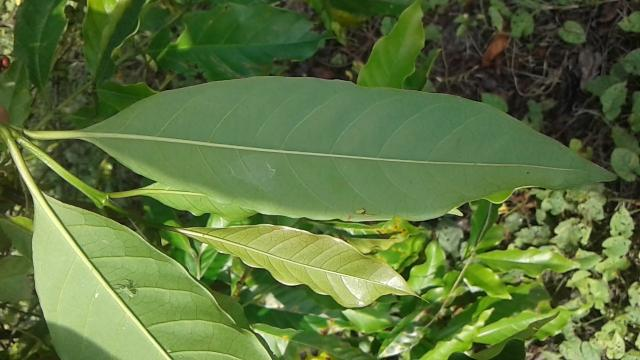red_spider_mite: (24, 78, 617, 219)
